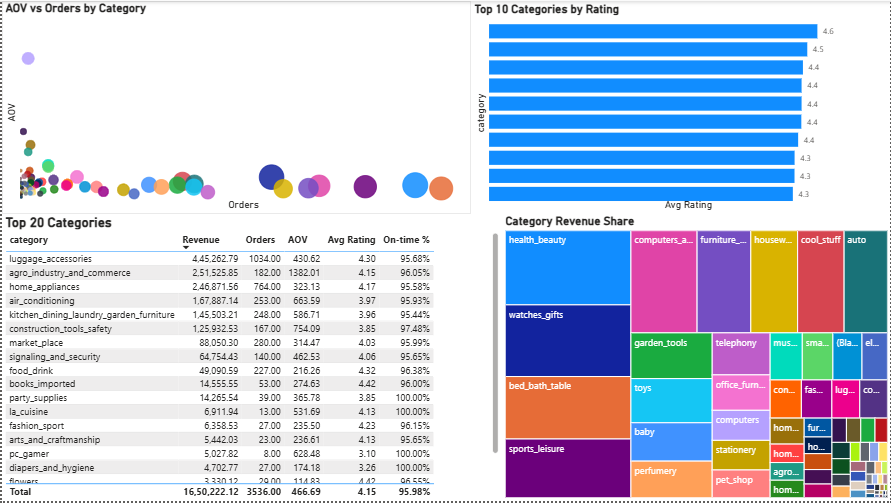

What the dashboard file says about the page in this screenshot:
{"tool":"powerbi","page":{"name":"Category & Product","canvas":[1280,720],"ordinal":2},"visuals":[{"type":"treemap","title":"Category Revenue Share","fields":{"Group":["public bi_fact_sales.category"],"Values":["public bi_fact_sales.Revenue"]},"box":[720,306.7,560,413.3],"z":0},{"type":"scatterChart","title":"AOV vs Orders by Category","fields":{"X":["public bi_fact_sales.Orders"],"Y":["public bi_fact_sales.AOV"],"Series":["public bi_fact_sales.category"],"Size":["public bi_fact_sales.Revenue"]},"box":[0,0,675,306.7],"z":1000},{"type":"barChart","title":"Top 10 Categories by Rating","fields":{"Category":["public bi_fact_sales.category"],"Y":["public bi_fact_sales.Avg Rating"]},"box":[675,1.7,605,305],"z":2000},{"type":"tableEx","title":"Top 20 Categories","fields":{"Values":["public bi_fact_sales.category","public bi_fact_sales.Revenue","public bi_fact_sales.Orders","public bi_fact_sales.AOV","public bi_fact_sales.Avg Rating","public bi_fact_sales.On-time %"]},"box":[0,306.7,720,413.3],"z":3000}]}

Visuals, with their boxes in screenshot pixels (x1, y1, x2, y2), scaled from the page's 1280x720 canvas onto the 891x503 screenshot:
"Category Revenue Share" treemap: 501,214,890,502
"AOV vs Orders by Category" scatterChart: 0,0,470,214
"Top 10 Categories by Rating" barChart: 470,1,890,214
"Top 20 Categories" tableEx: 0,214,501,502
